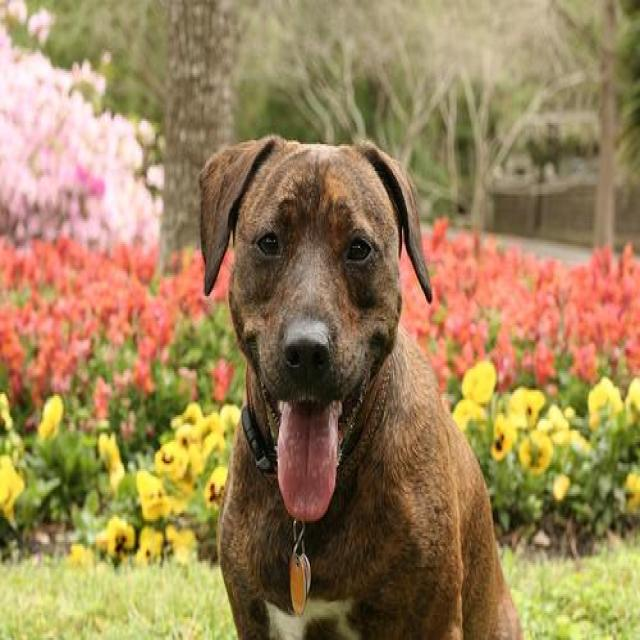happy: (174, 77, 473, 640)
